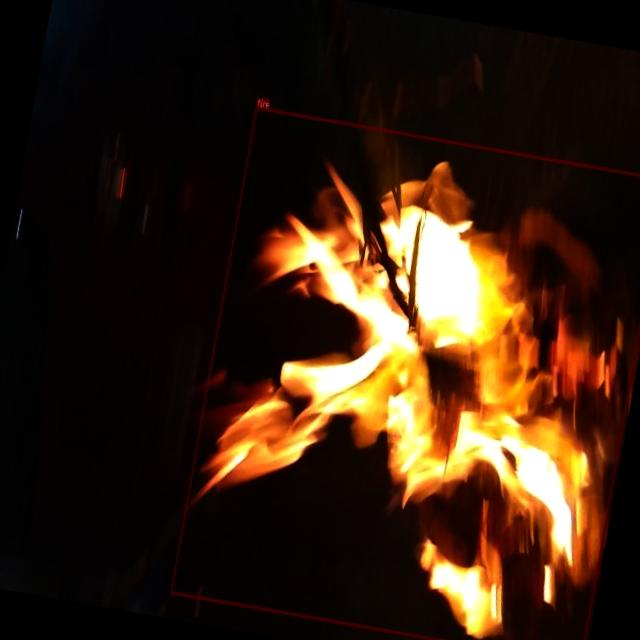fire: (169, 105, 640, 640)
